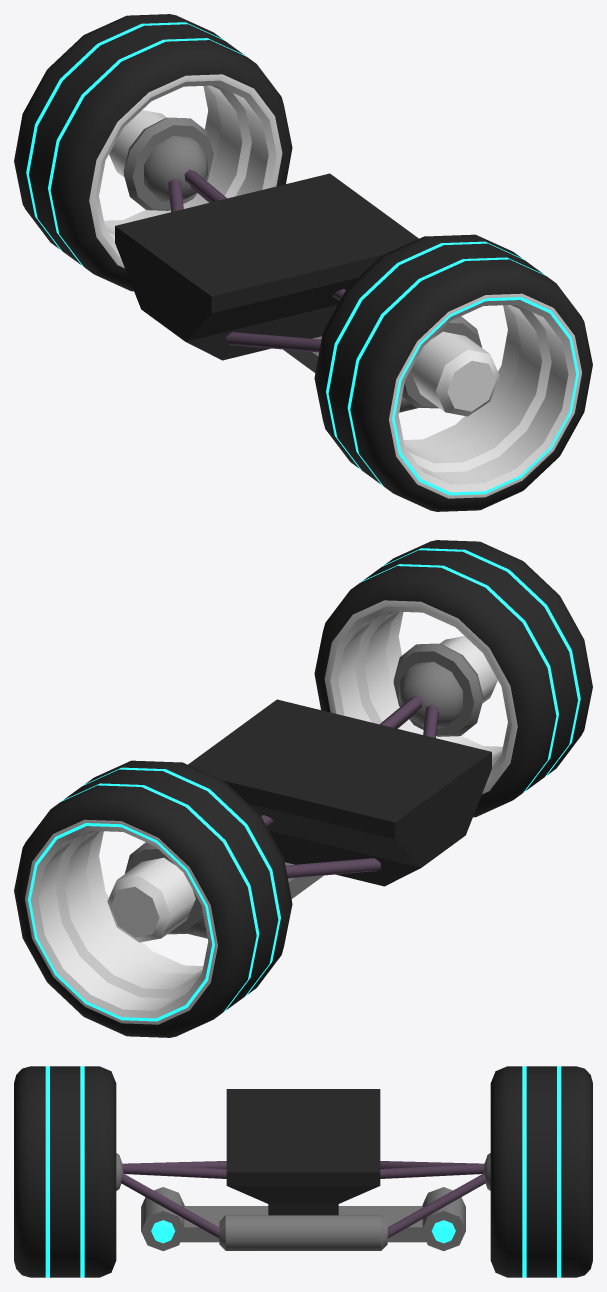
File: SM_Wheel_Common_Cyber.fbx
3 views of the same model, one above another, from view 1: azimuth 30°, elevation 25°; view 2: azimuth 150°, elevation 25°; view 3: azimuth 270°, elevation 25° (orthographic). The views are drawn at different scales.
Visible parts, largest first — view 1: WheelR.005, WheelL.004, Axel.004; view 2: WheelL.004, WheelR.005, Axel.004; view 3: Axel.004, WheelR.005, WheelL.004.
Part boxes in pixels (x1=…): WheelR.005: x1=314, y1=234, x2=592, y2=511; WheelL.004: x1=14, y1=14, x2=292, y2=291; Axel.004: x1=115, y1=135, x2=418, y2=412; WheelL.004: x1=14, y1=760, x2=292, y2=1037; WheelR.005: x1=314, y1=540, x2=592, y2=817; Axel.004: x1=188, y1=661, x2=491, y2=938; Axel.004: x1=116, y1=1089, x2=490, y2=1251; WheelR.005: x1=14, y1=1066, x2=116, y2=1277; WheelL.004: x1=490, y1=1066, x2=592, y2=1277.
Size of the model in its own units: 56.1 by 50.61 by 138.
